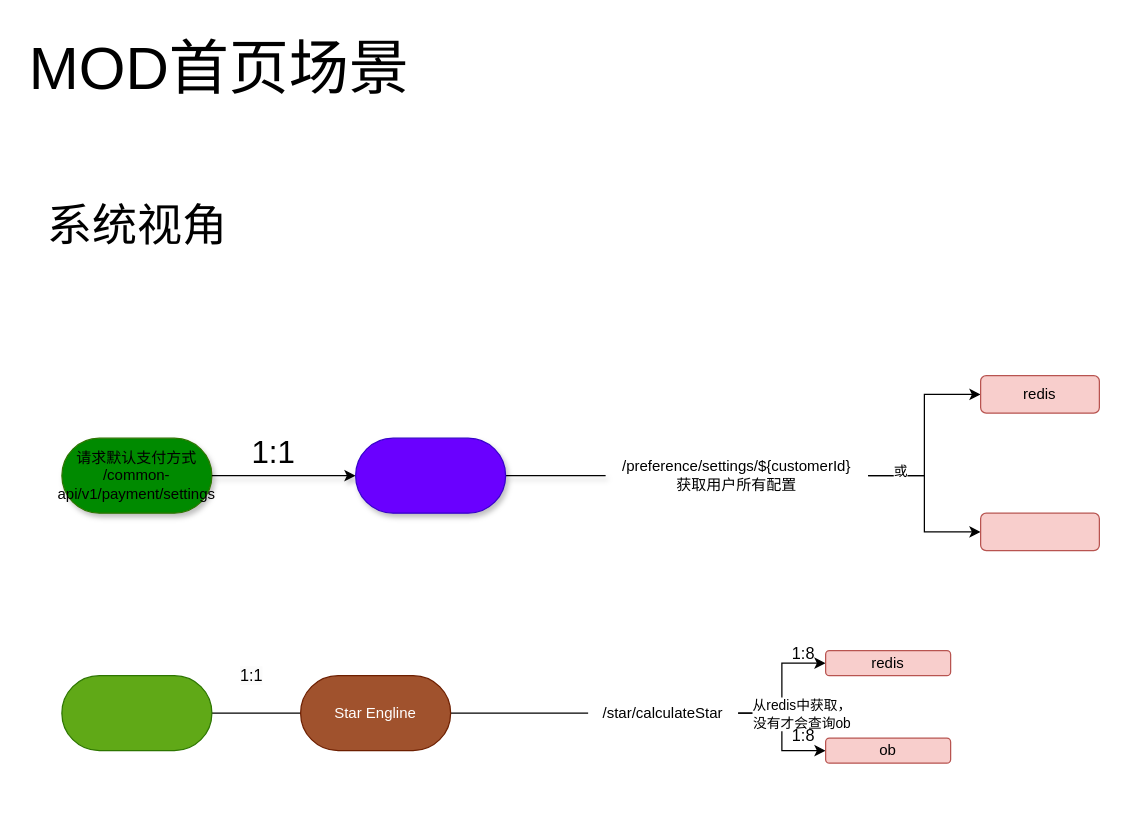
The diagram is 1121 pixels wide and 818 high, and some of its shapes have lost their labels. Here are the shapes that lost their labels. From the top down, the centre of each, then its label:
At point (431, 477): "CC".
At point (1039, 531): "mysql".
At point (136, 712): "购物车数据 /mop/cart/detail/v4".
